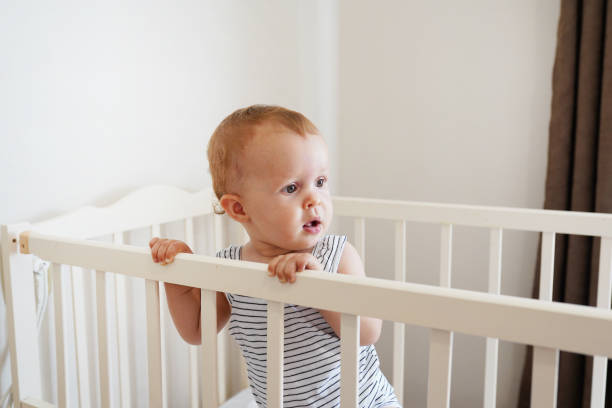baby: (208, 105, 364, 281)
crib: (1, 186, 611, 406)
